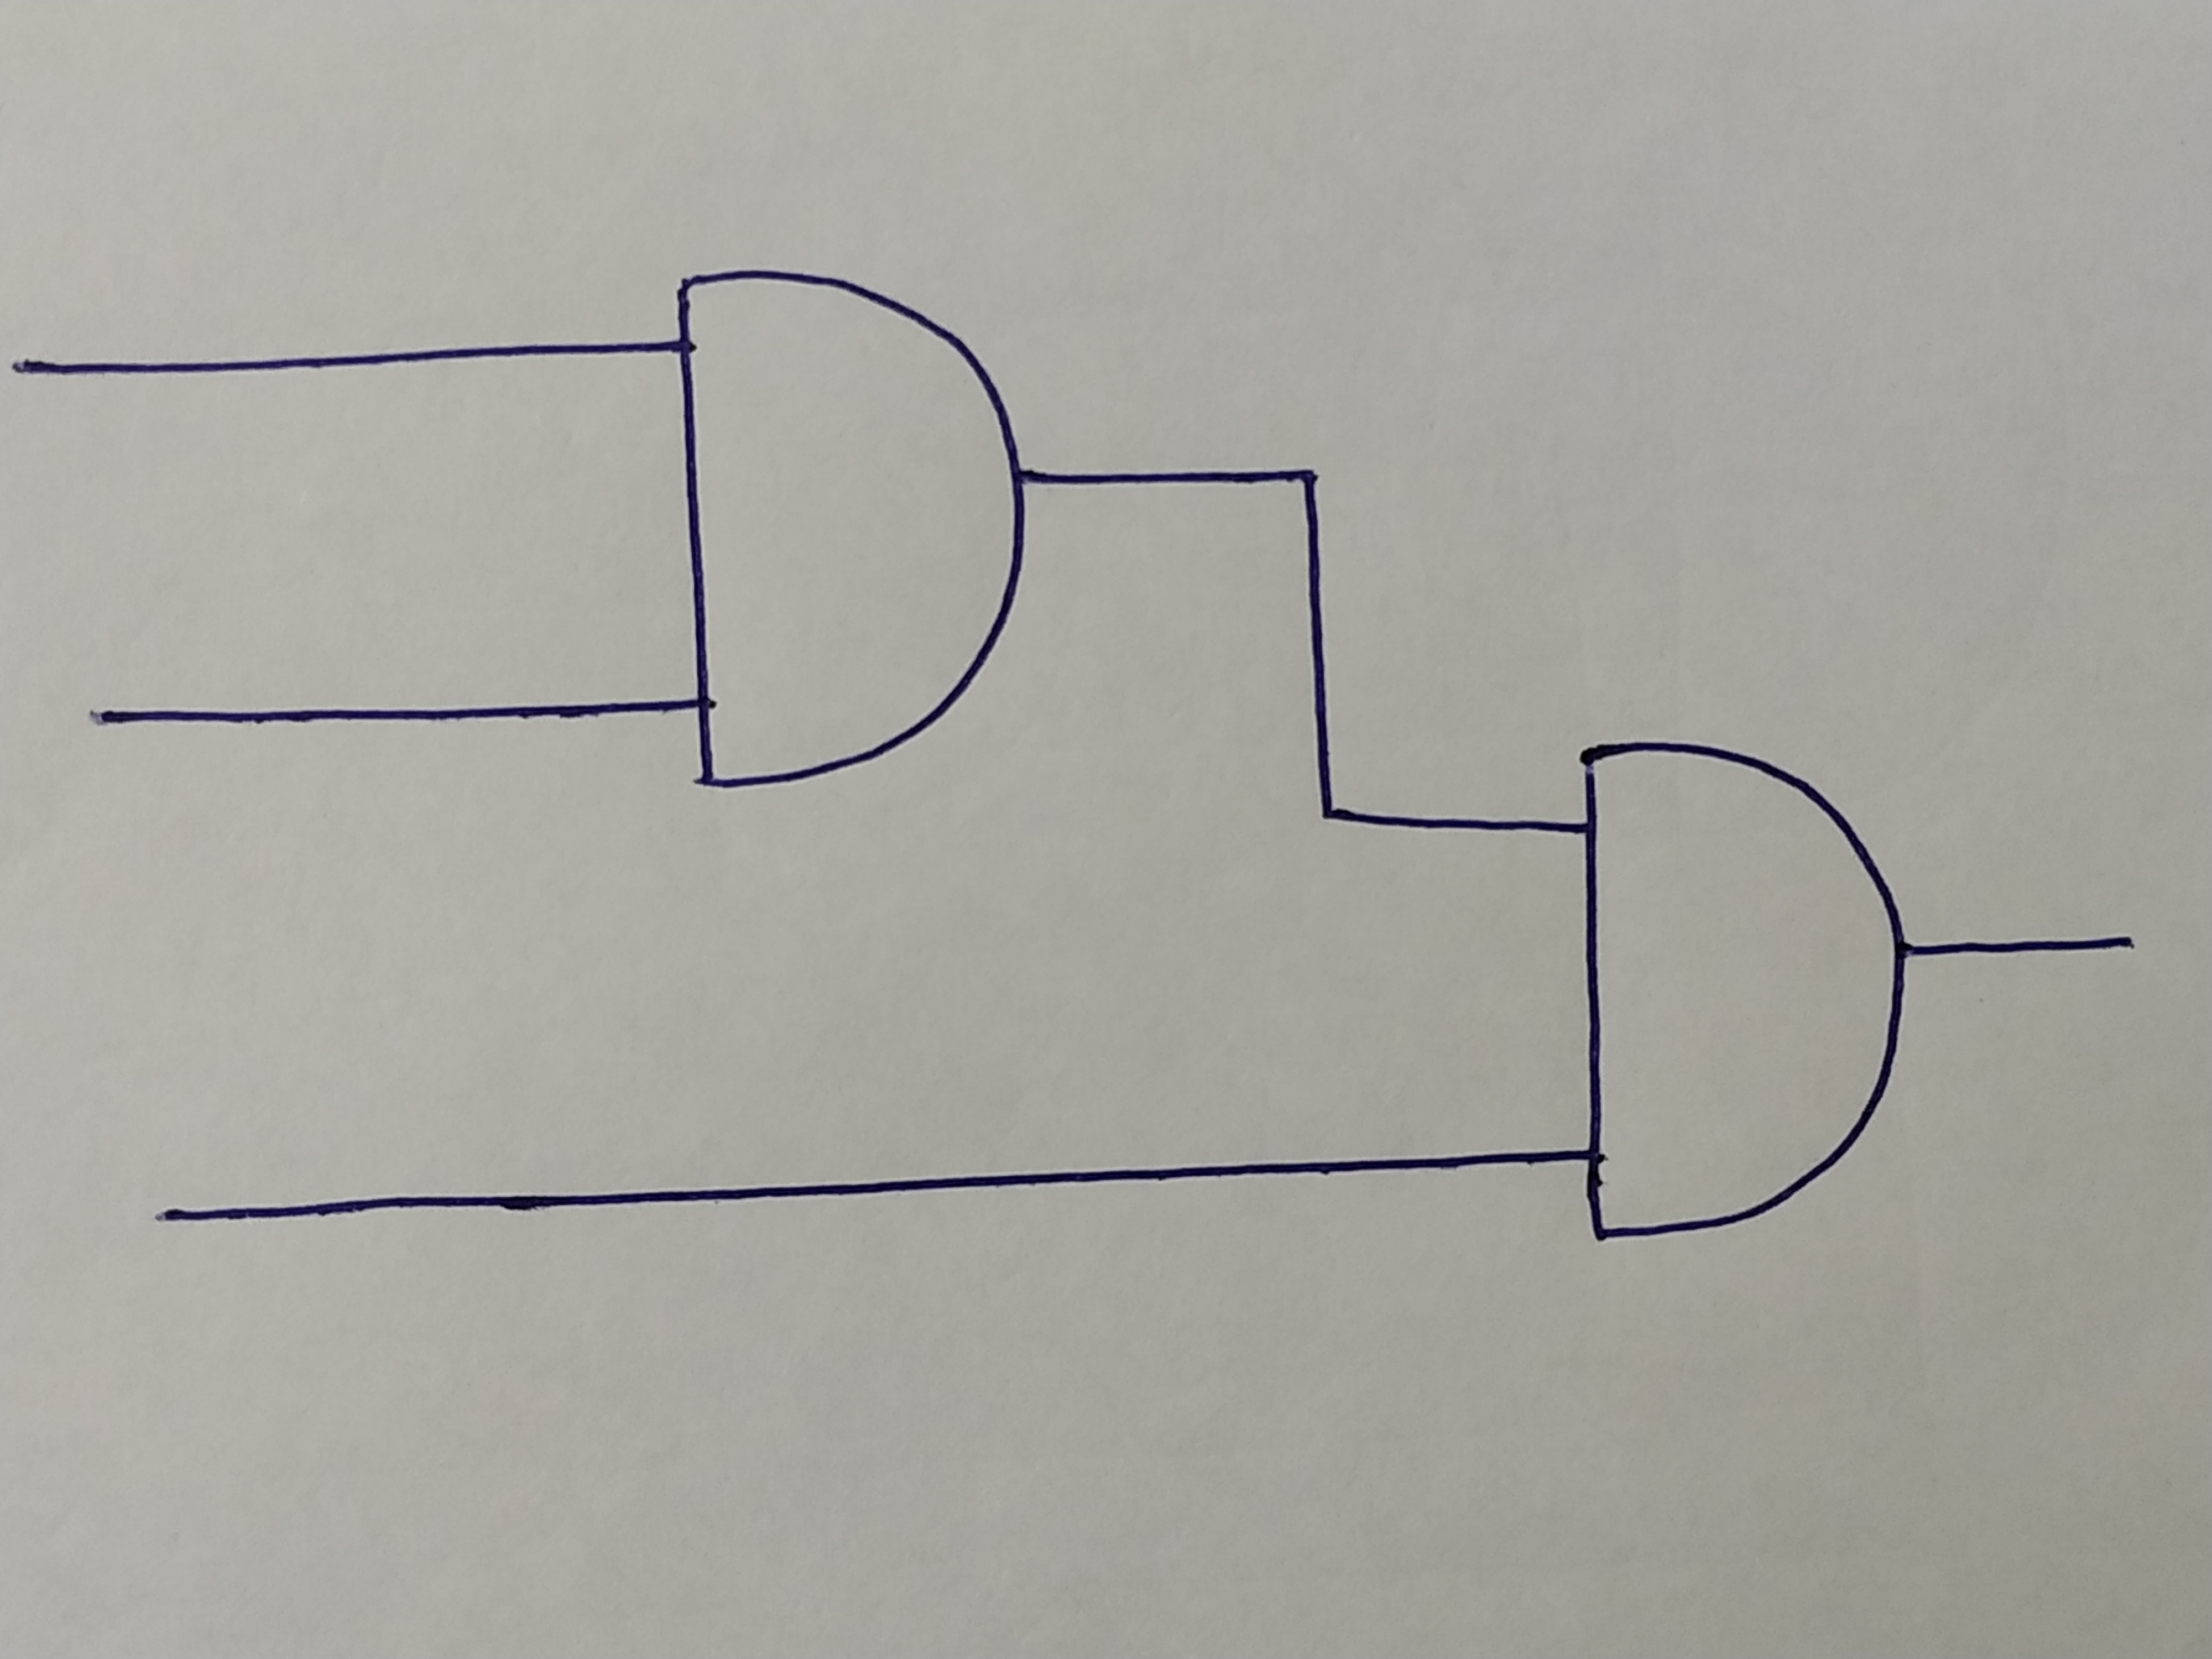and: (681, 275, 1024, 789), (1571, 739, 1905, 1237)
